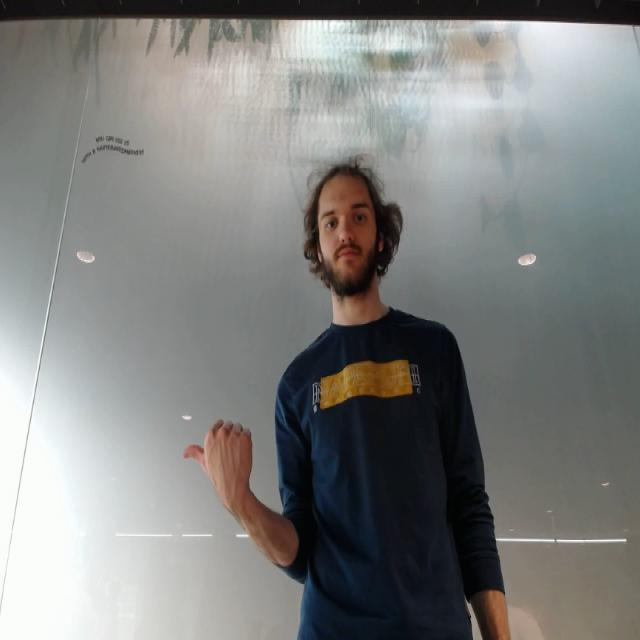left: (185, 418, 258, 498)
